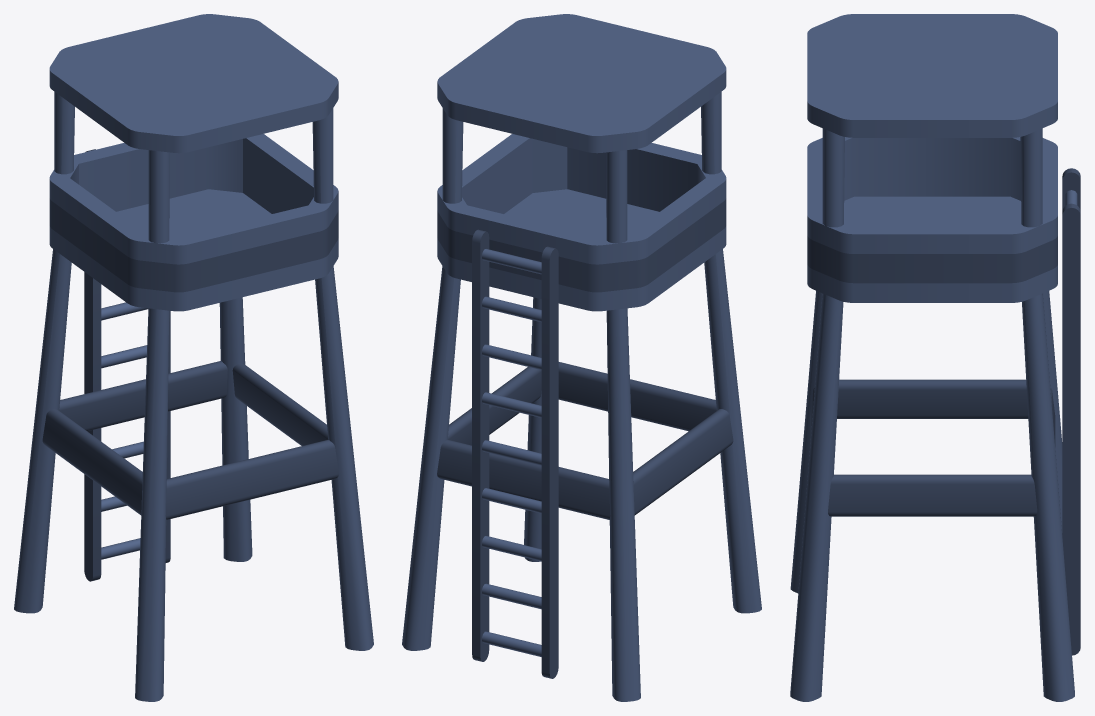
The model's file is Military Tower.fbx.
3 views of the same model, side by side, from view 1: azimuth 30°, elevation 25°; view 2: azimuth 150°, elevation 25°; view 3: azimuth 270°, elevation 25° (orthographic). The views are drawn at different scales.
Parts seen in each view (by area): view 1: Tower; view 2: Tower; view 3: Tower.
Part boxes in pixels (x1,y1,x2,y2): Tower: [14, 14, 373, 701]; Tower: [402, 14, 761, 701]; Tower: [790, 14, 1080, 701].
Bounding box in the file's own units: 3.25 × 7.25 × 3.32.
